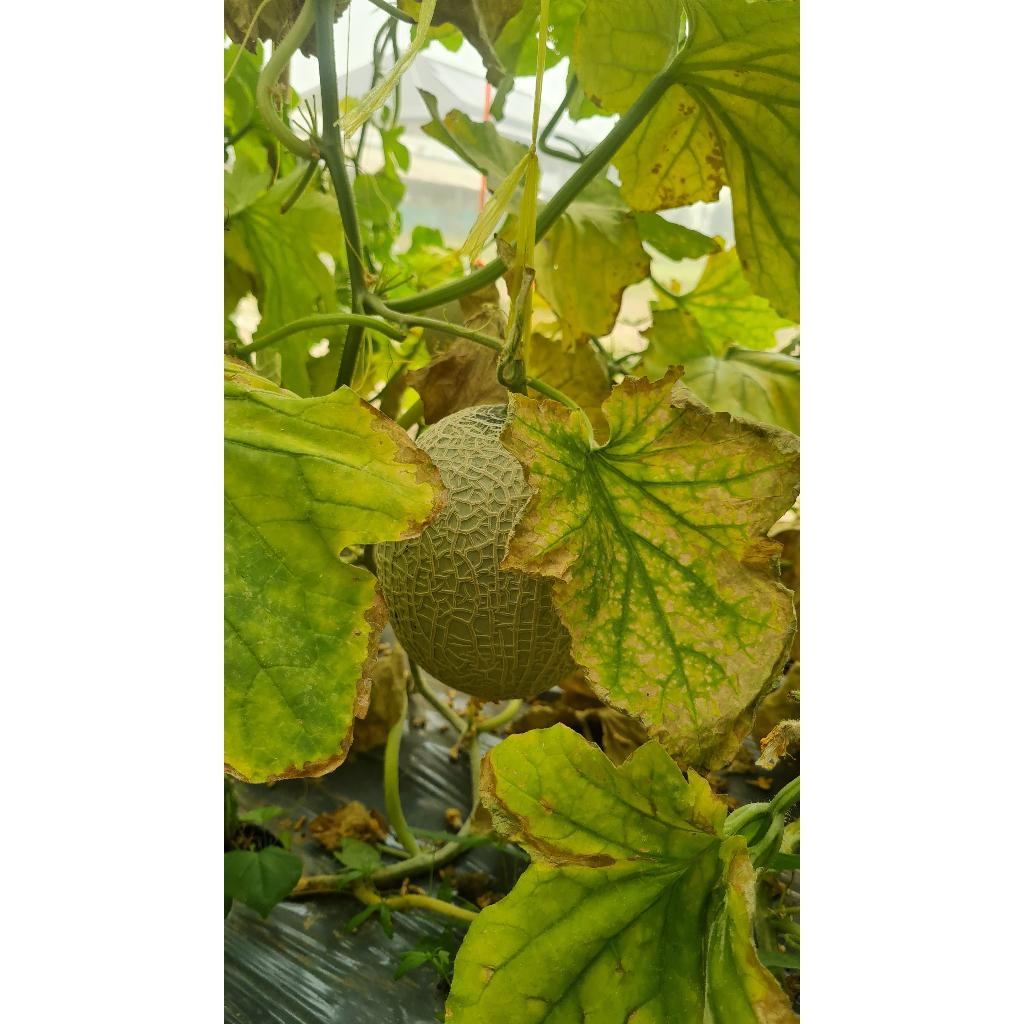melon: (374, 404, 576, 700)
